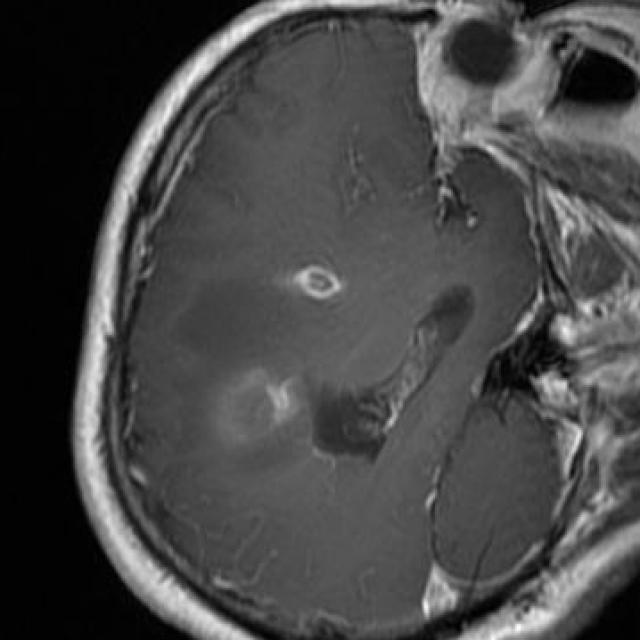glioma: (219, 285, 474, 462)
